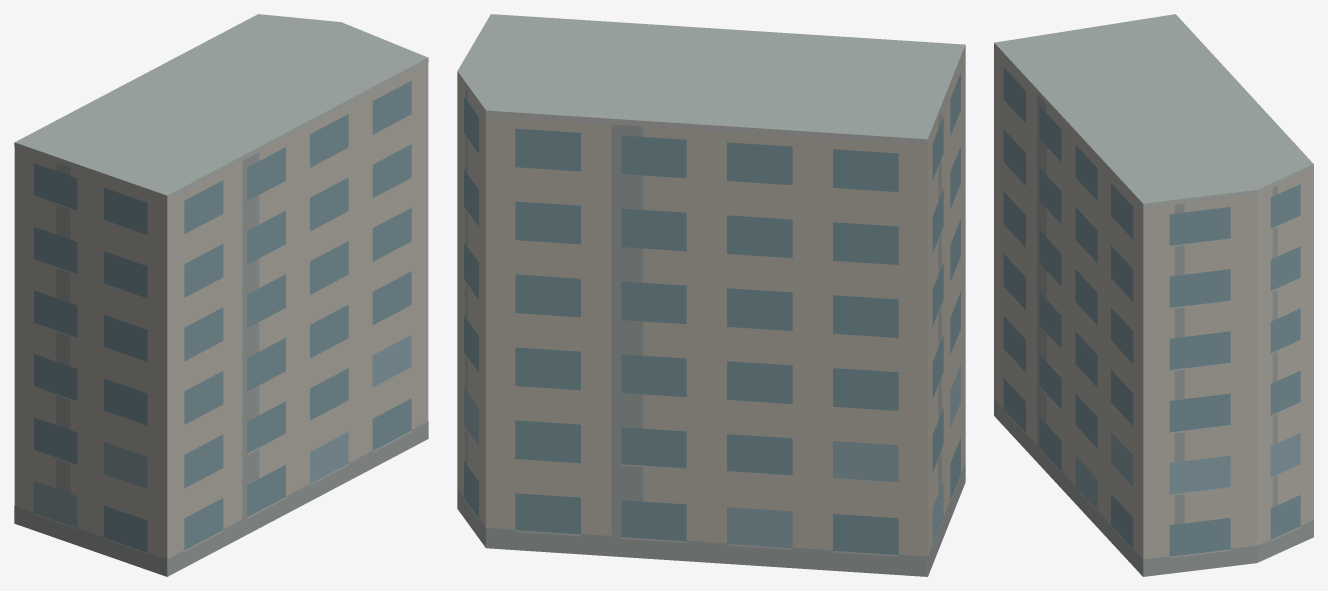
The model's file is survey-upis-32996372.glb.
3 views of the same model, side by side, from view 1: azimuth 30°, elevation 25°; view 2: azimuth 150°, elevation 25°; view 3: azimuth 270°, elevation 25° (orthographic). The views are drawn at different scales.
Parts seen in each view (by area): view 1: survey-upis-32996372.tmp; view 2: survey-upis-32996372.tmp; view 3: survey-upis-32996372.tmp.
Part boxes in pixels (box(x1,y1,x2,y2)): survey-upis-32996372.tmp: box(14, 14, 428, 576); survey-upis-32996372.tmp: box(457, 14, 965, 576); survey-upis-32996372.tmp: box(994, 14, 1313, 576).
Size of the model in its own units: 19.96 by 18.3 by 14.22.
